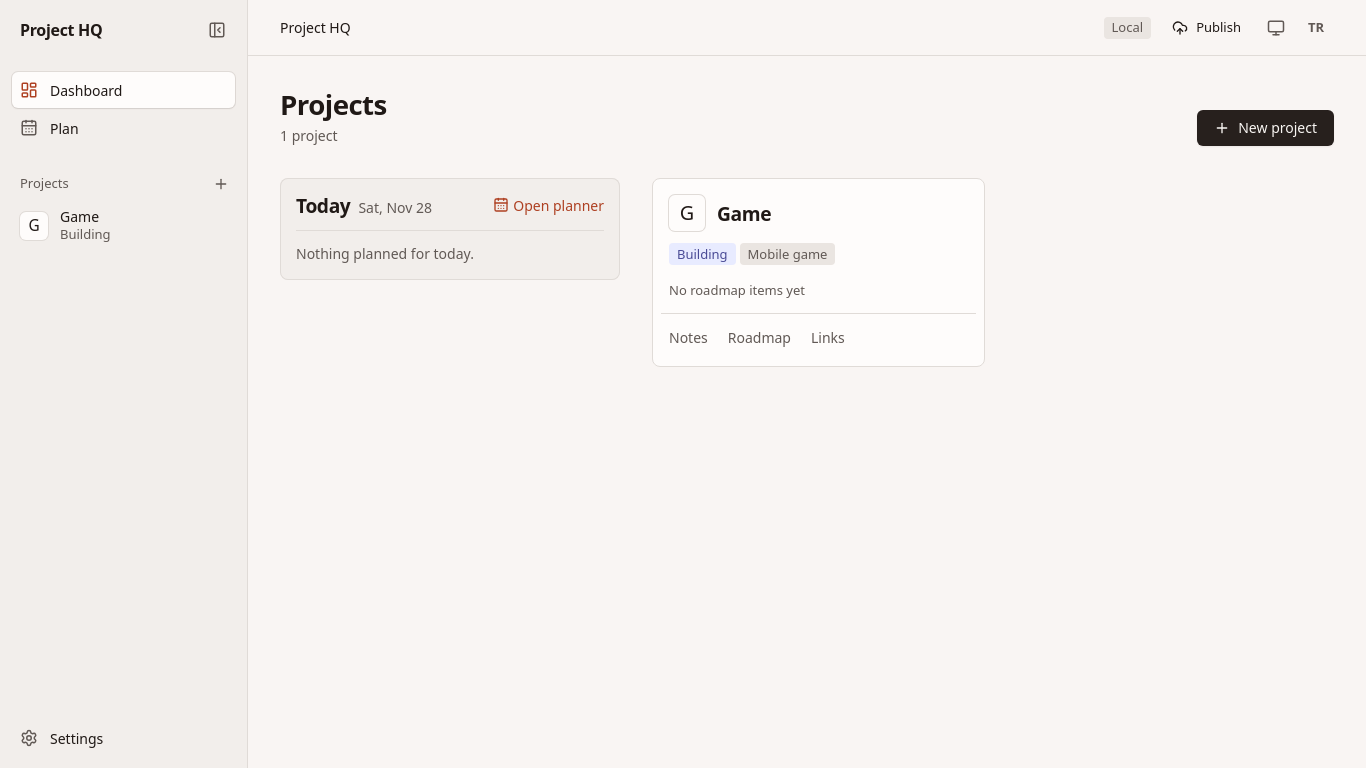
Scenario: collapsible sidebar › collapses on click, keeps every destination reachable and remembers the state
The width and height of the screenshot is (1366, 768).
expect the link "G Game Building" is shown: met, box [20,207,111,243]
Click the button named "Collapse sidebar" at (217, 30), box [199,12,235,48]
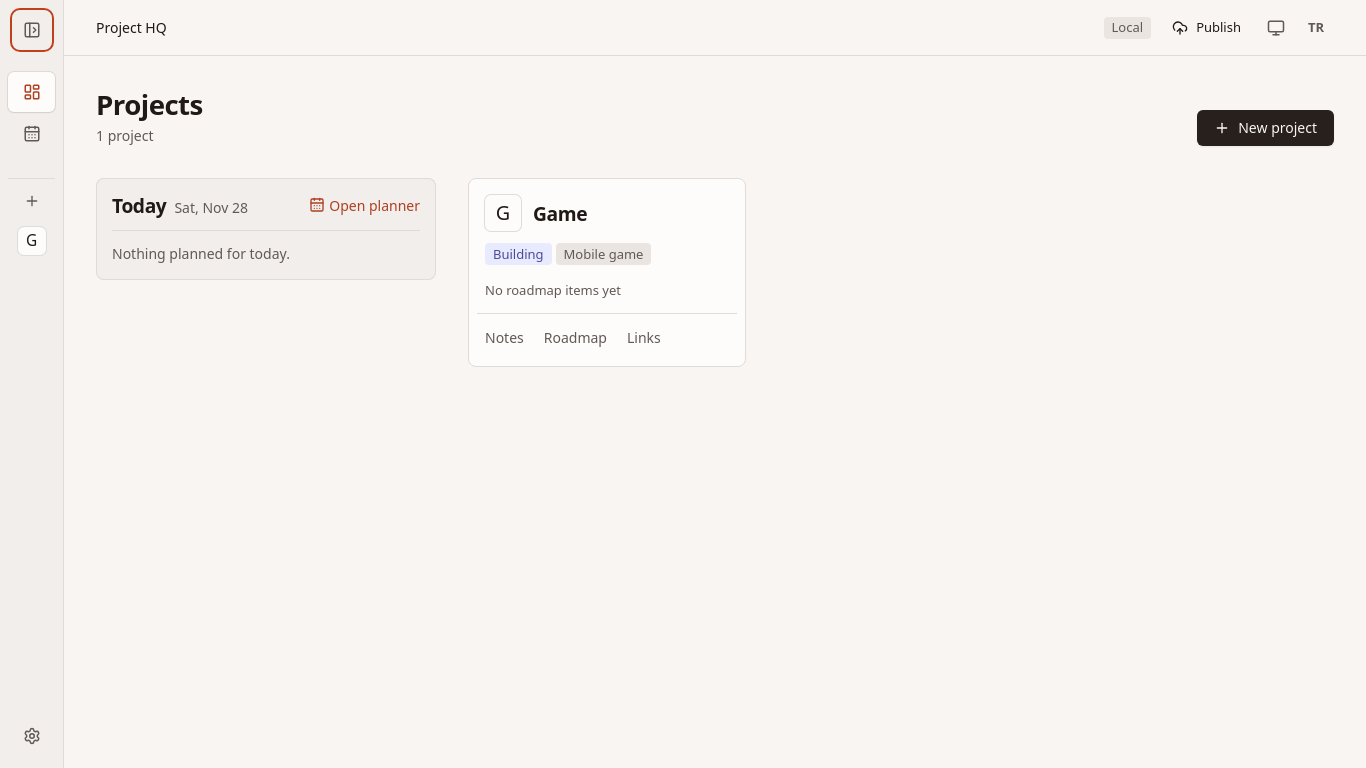
expect the link named "Settings" is shown: met, box [8,716,55,756]
expect the button named "Expand sidebar" is collapsed: met
Click the button named "Expand sidebar" at (32, 30), box [14,12,50,48]
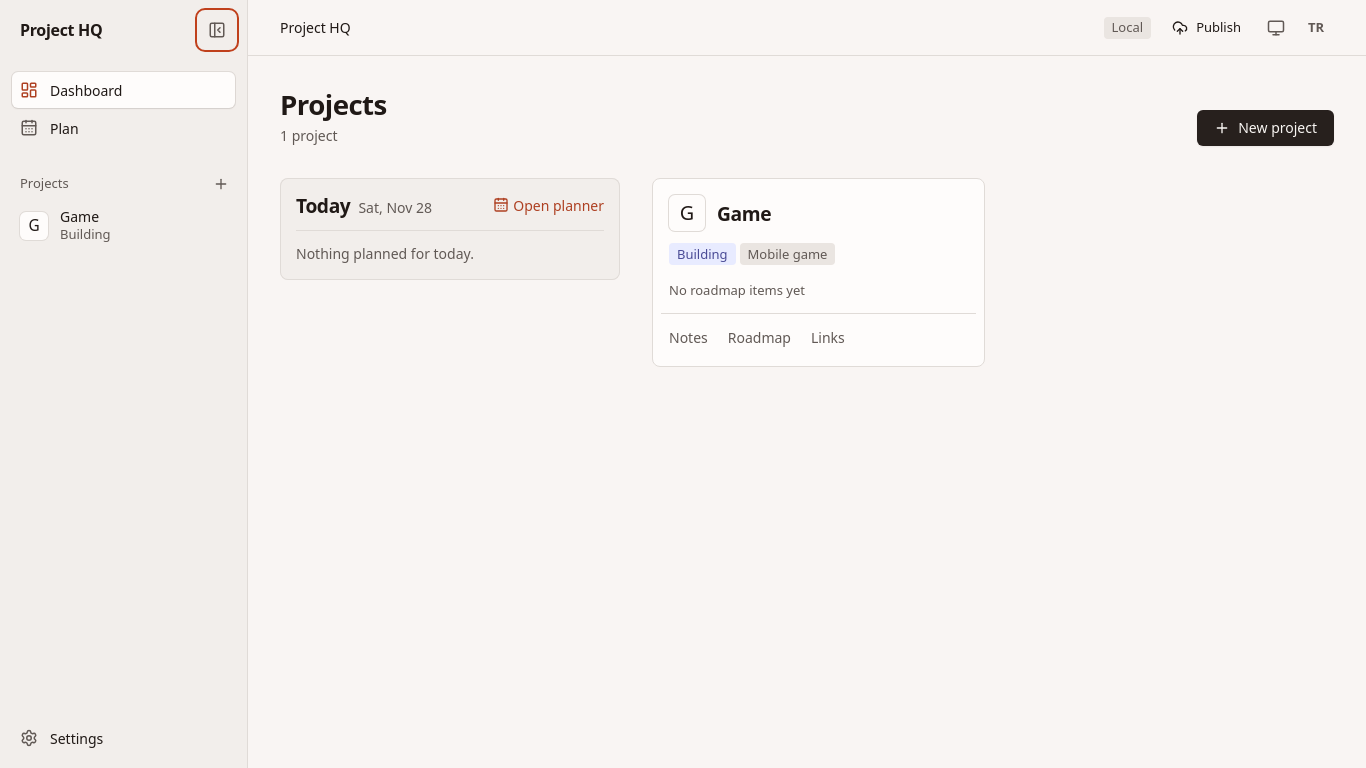
expect the button named "Collapse sidebar" is expanded: met, box [199,12,235,48]
